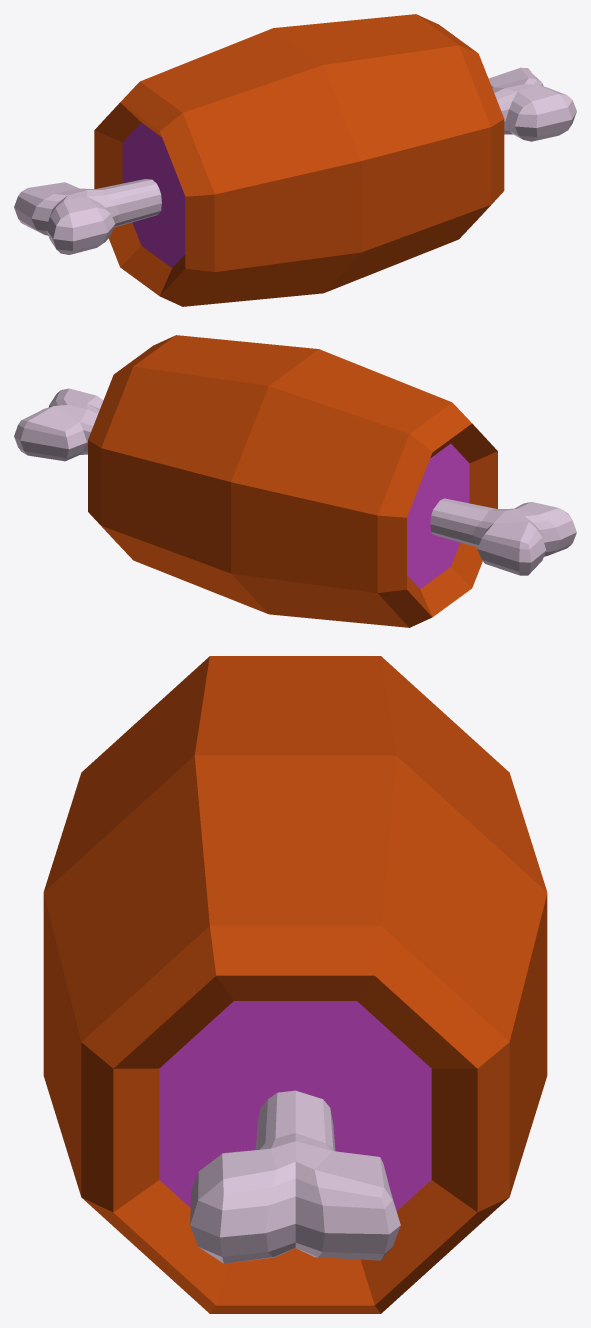
The model's file is MESH_Meat.fbx.
3 views of the same model, one above another, from view 1: azimuth 30°, elevation 25°; view 2: azimuth 150°, elevation 25°; view 3: azimuth 270°, elevation 25° (orthographic). The views are drawn at different scales.
Visible parts, largest first — view 1: MESH_Meat; view 2: MESH_Meat; view 3: MESH_Meat.
Boxes of the visible parts, x1=… form: MESH_Meat: x1=14, y1=14, x2=576, y2=306; MESH_Meat: x1=14, y1=335, x2=576, y2=627; MESH_Meat: x1=43, y1=656, x2=547, y2=1313.
Bounding box in the file's own units: 0.5432 × 0.2263 × 0.2263.
